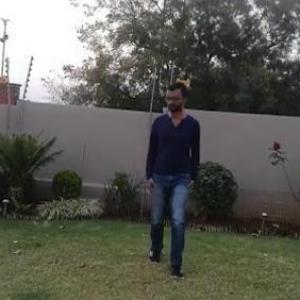follow: (144, 73, 202, 280)
